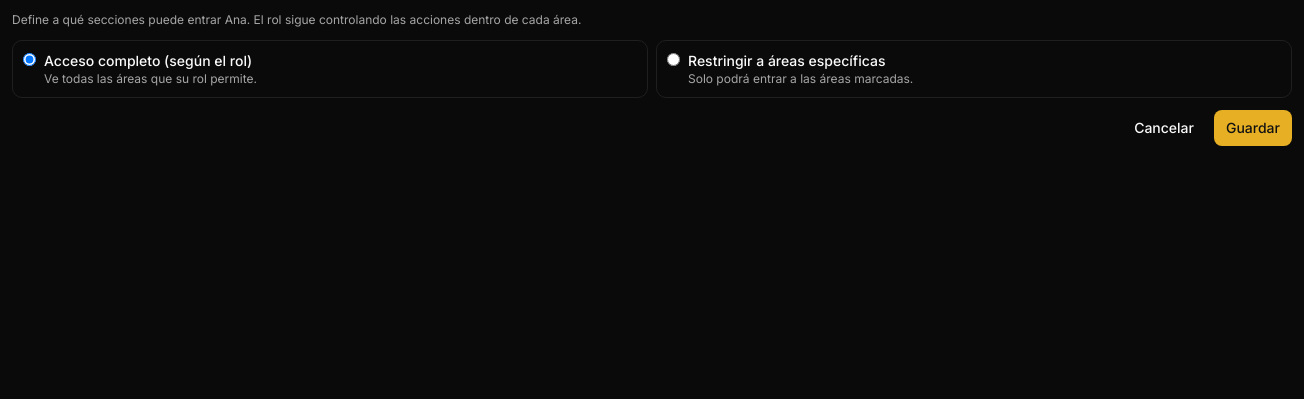
Test: AreaAccessPanel › reveals the area checklist when restricting
Step 1. Click the radio button labelled "Restringir" → (674,60), box [667,53,680,66]
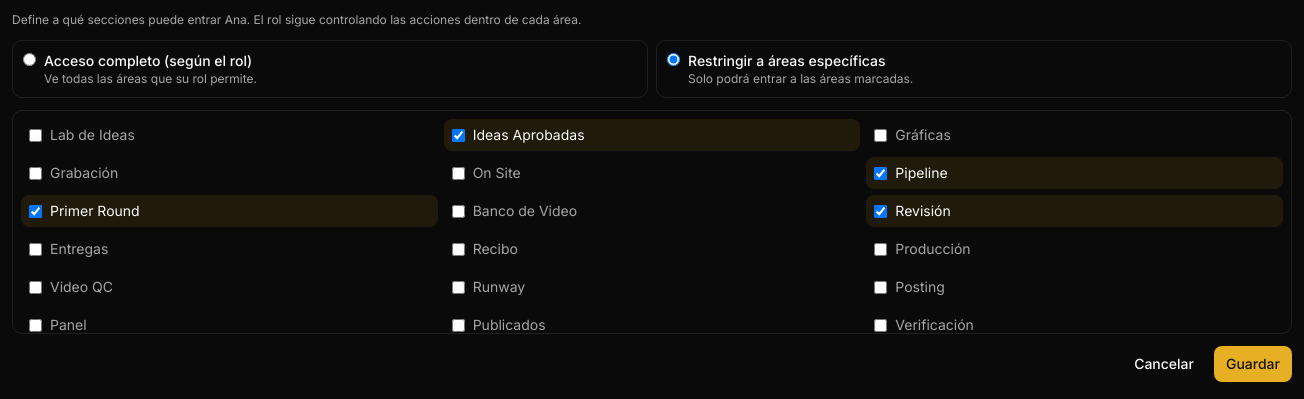
Check: the text "Pipeline" is shown, box [895,163,948,183]
